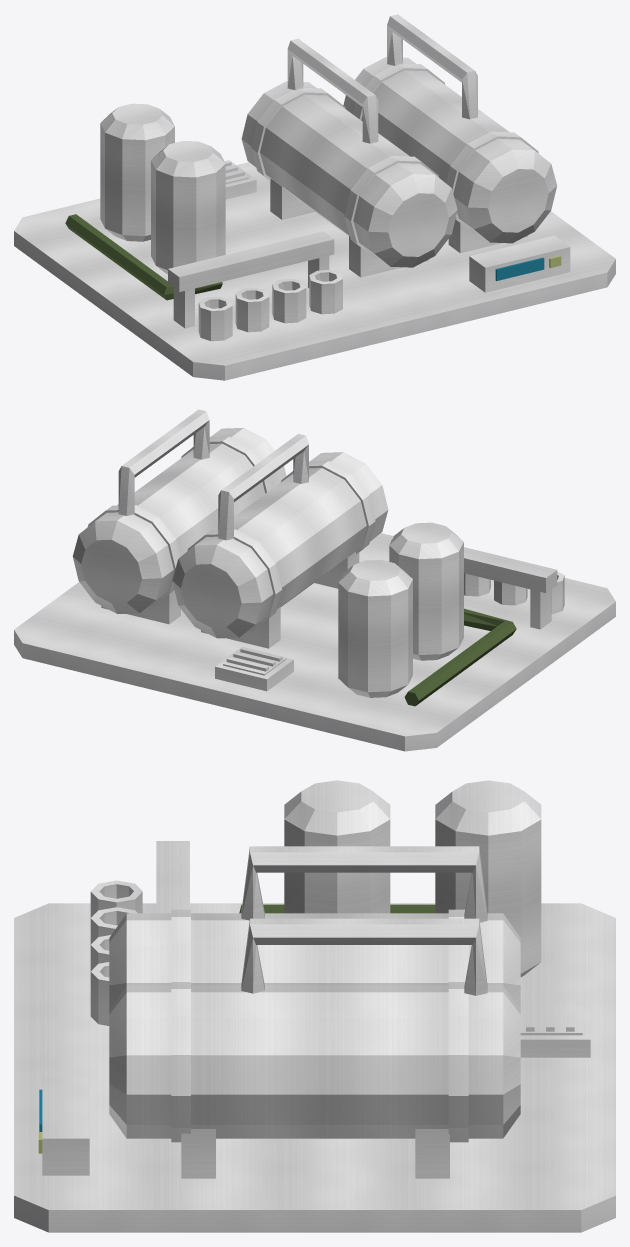
File: toxic_spewer.obj
3 renders of one model, top to bottom at view 1: azimuth 30°, elevation 25°; view 2: azimuth 150°, elevation 25°; view 3: azimuth 270°, elevation 25°, orthographic. The views are drawn at different scales.
Parts seen in each view (by area): view 1: toxic_spewer; view 2: toxic_spewer; view 3: toxic_spewer.
Boxes of the visible parts, x1,y1,x2,y2 form: toxic_spewer: (14, 14, 615, 380); toxic_spewer: (14, 409, 615, 751); toxic_spewer: (14, 780, 615, 1232).
Size of the model in its own units: 5.86 by 2.27 by 4.86.
